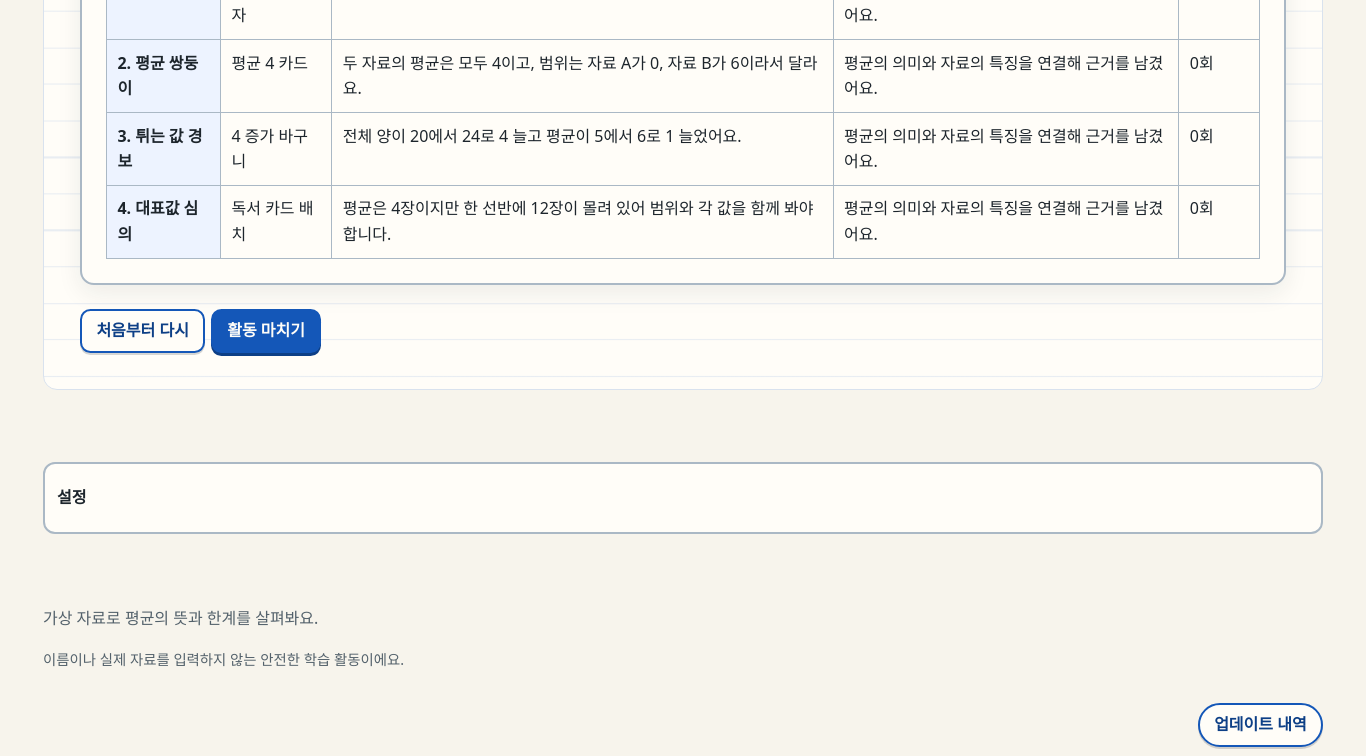
StoragePreference › keeps confirmed results-route deletion empty after StrictMode effects settle
This screenshot has width=1366, height=756.
(page scrolled)
Click the heading "설정". click: coordinates (72, 497)
box: top-left (57, 486), bottom-right (86, 508)
(page scrolled)
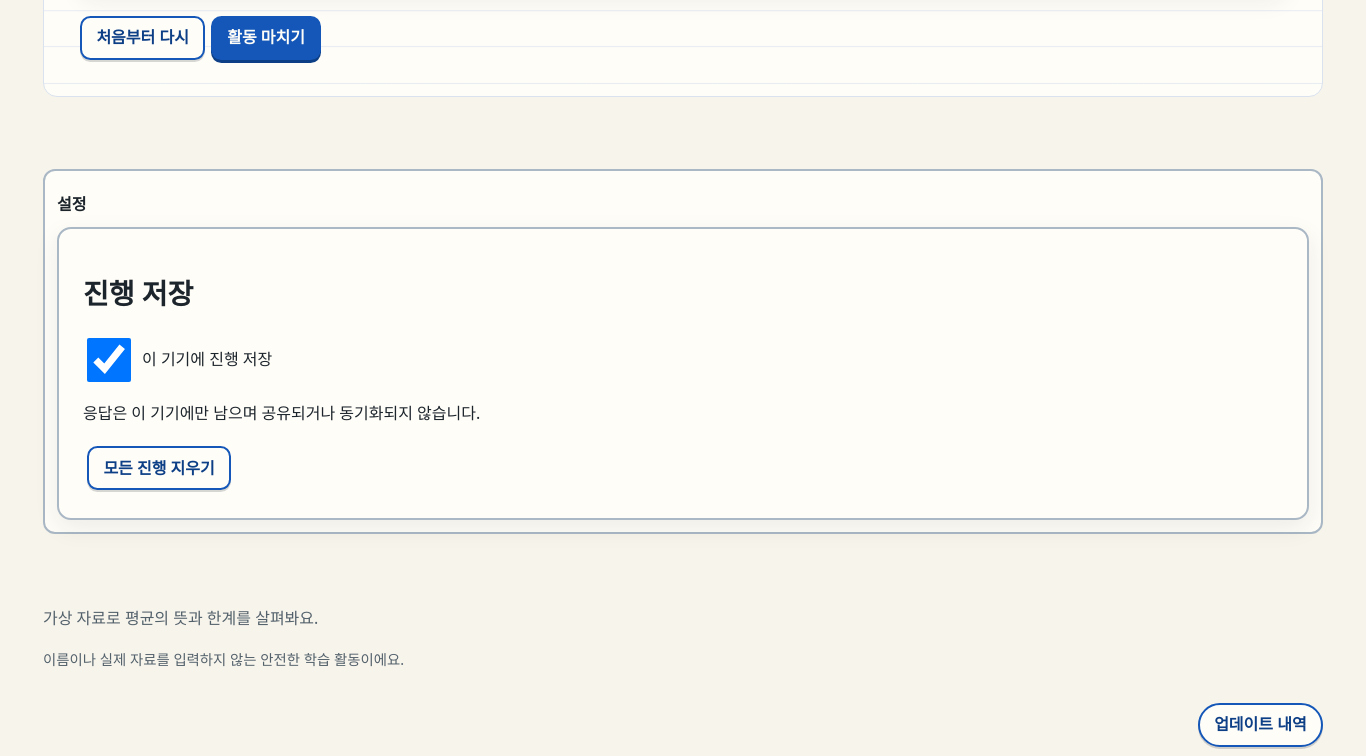
Click the button "모든 진행 지우기". click: coordinates (159, 468)
box: top-left (87, 446), bottom-right (231, 490)
(page scrolled)
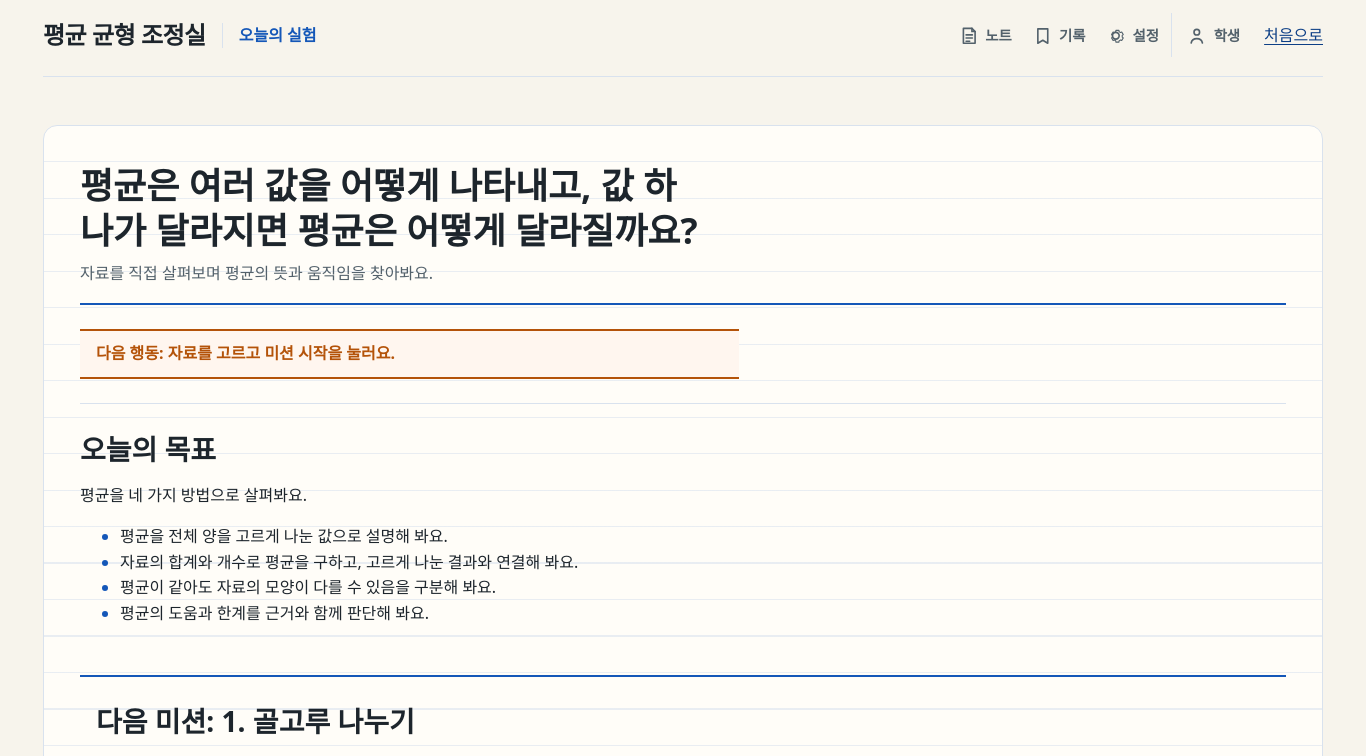
expect the heading "평균은 여러 값을 어떻게 나타내고, 값 하나가 달라지면 평균은 어떻게 달라질까요?" is shown: met, box top-left (80, 161), bottom-right (698, 255)
